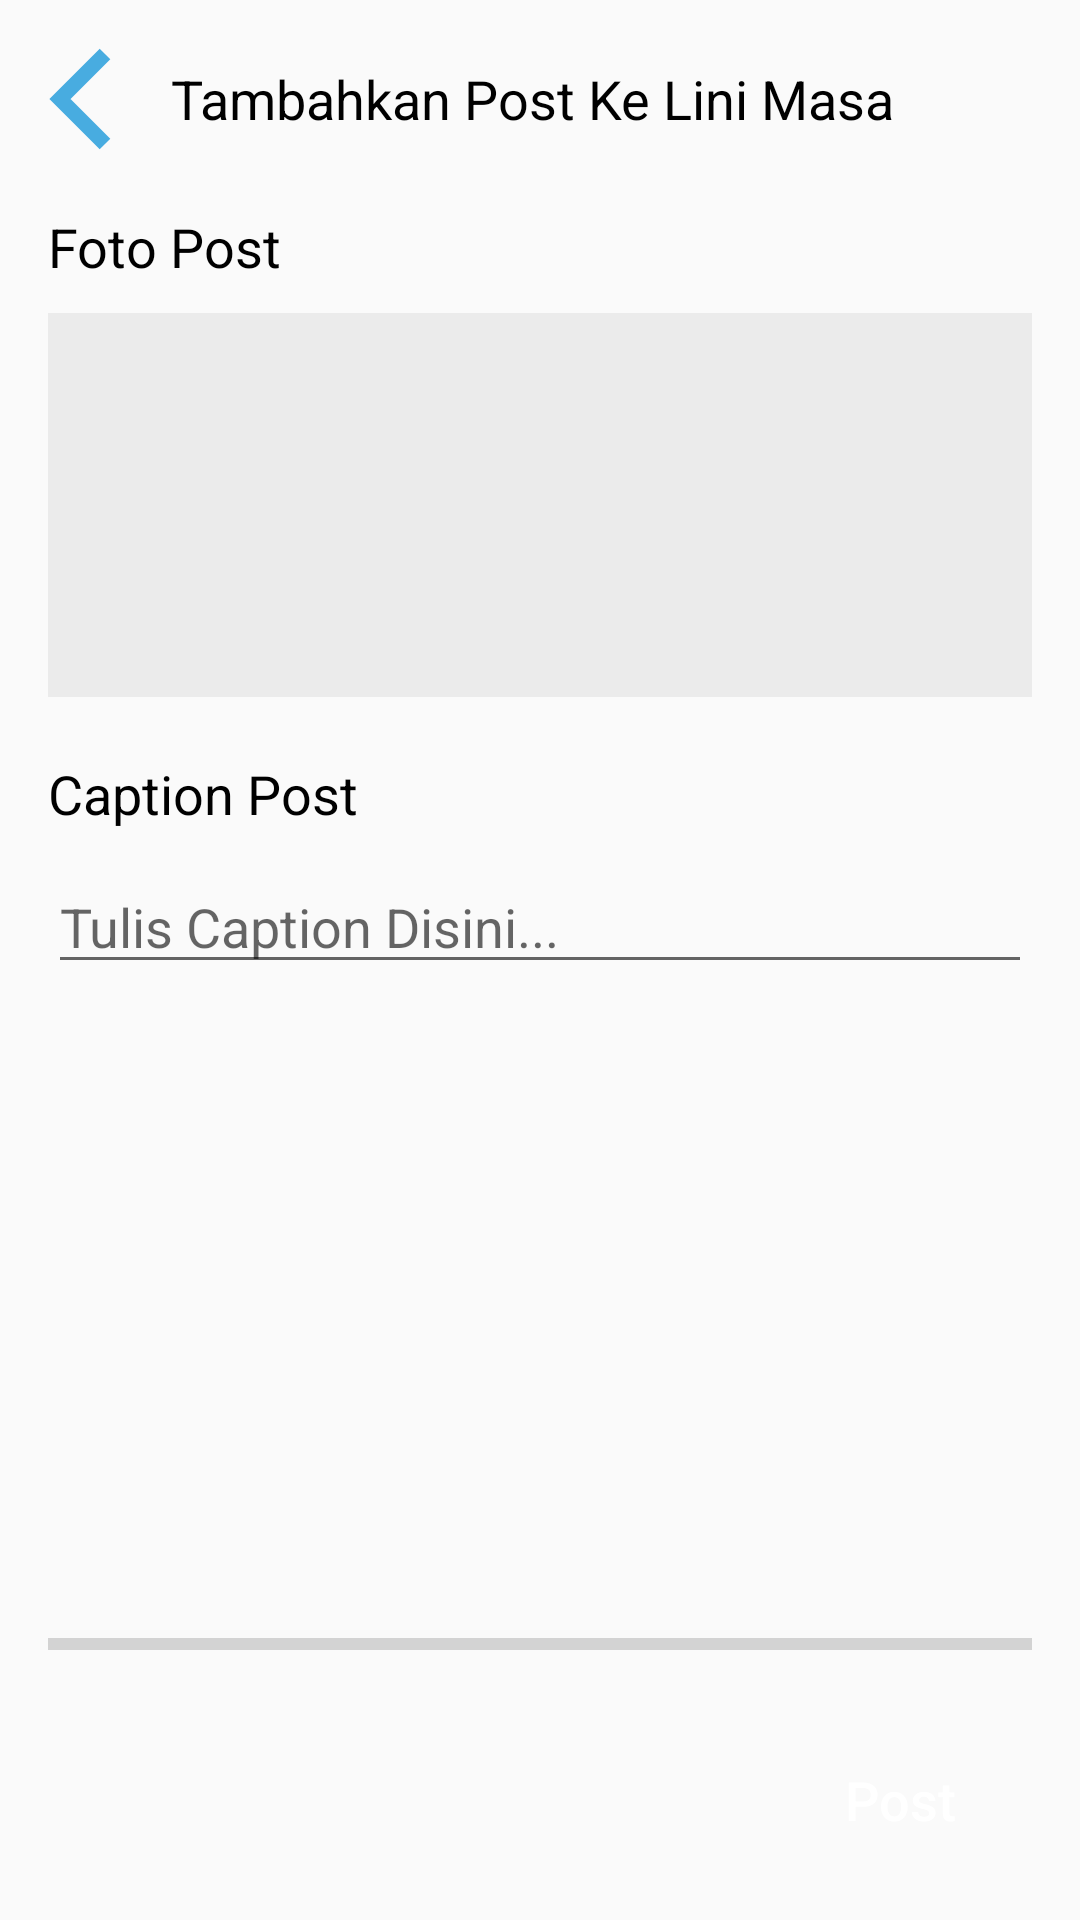

Icon click points for this 1080 x 1920 phone screenshot, format point (x, y):
back: point (79, 99)
